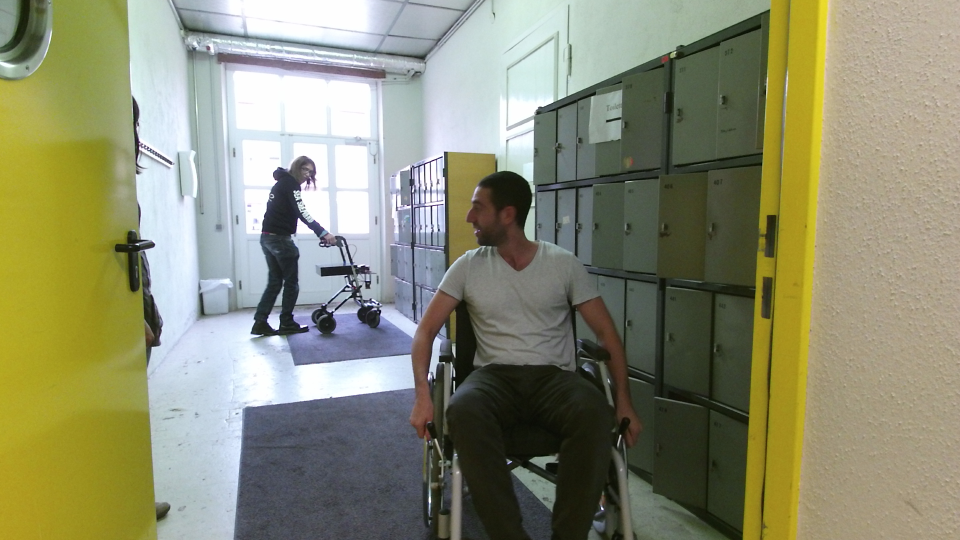wheelchair: (401, 165, 643, 540)
